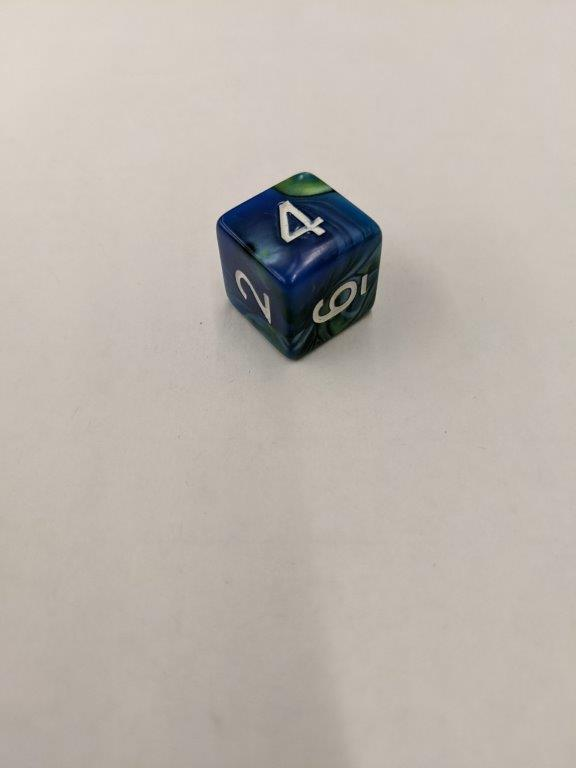d6-4: (215, 169, 386, 363)
